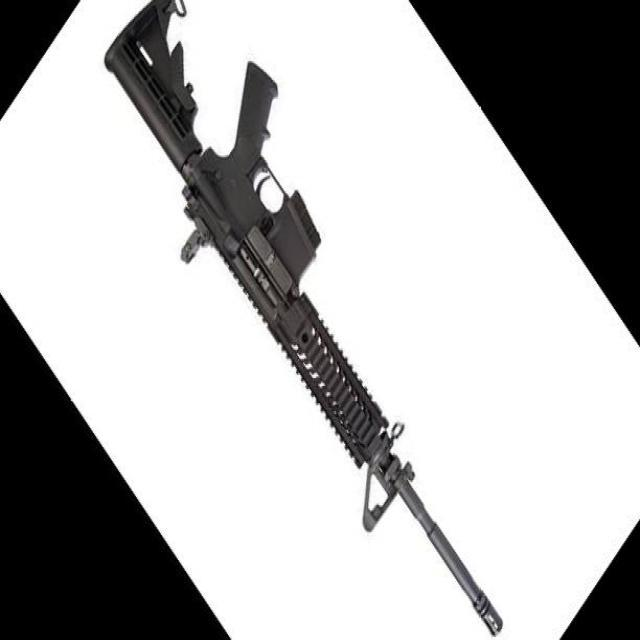weapon: (104, 0, 504, 640)
